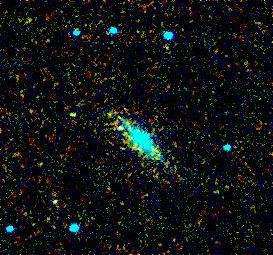star: (107, 112, 137, 142)
